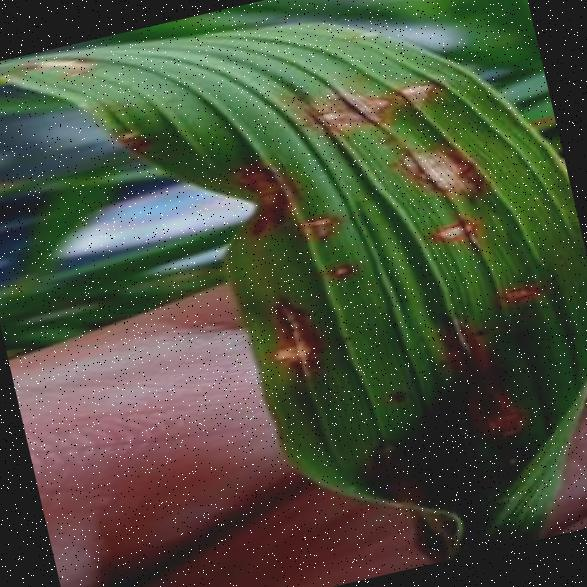Leaf_smut: (388, 121, 507, 239), (352, 422, 458, 550), (198, 136, 310, 252), (279, 66, 407, 159), (244, 276, 339, 396), (408, 298, 494, 391), (376, 39, 455, 134), (457, 374, 542, 458), (407, 192, 493, 260), (482, 252, 559, 320), (16, 40, 104, 98), (104, 94, 166, 164), (316, 241, 384, 298), (296, 201, 346, 241)
